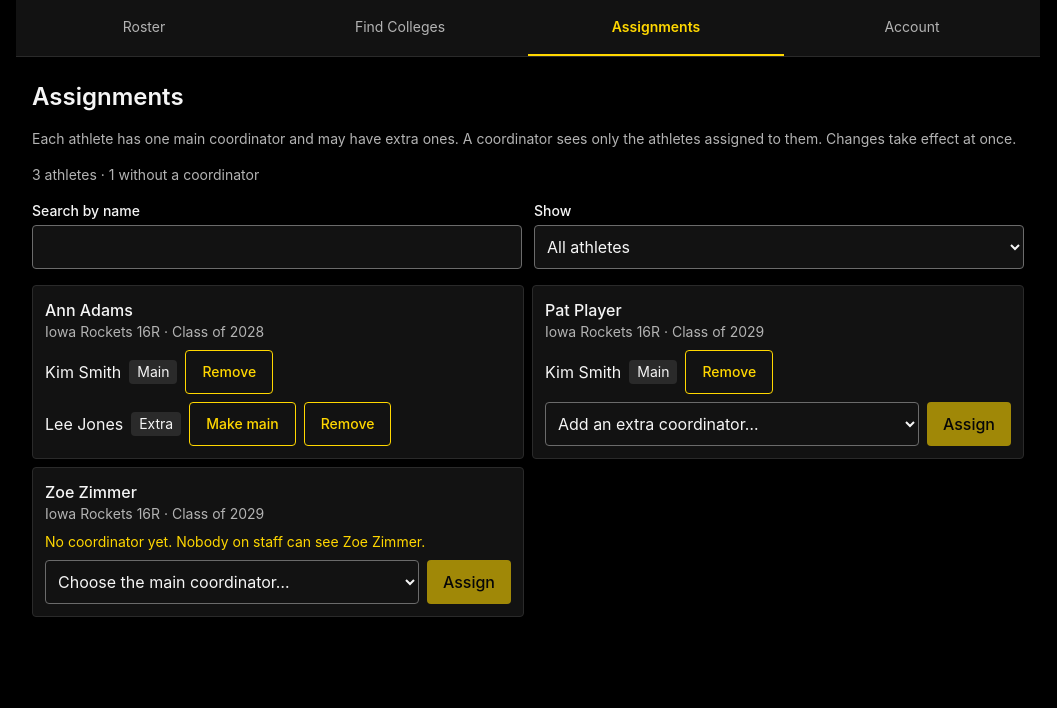
Test case: Assignments (administrator) › explains a refusal for lack of rights
Expected: the list named "Athletes" is shown, [32,285,1024,617]
Click the button with aria-label "Make Lee Jones the main coordinator of Ann Adams" at (242, 424), box [189,402,296,446]
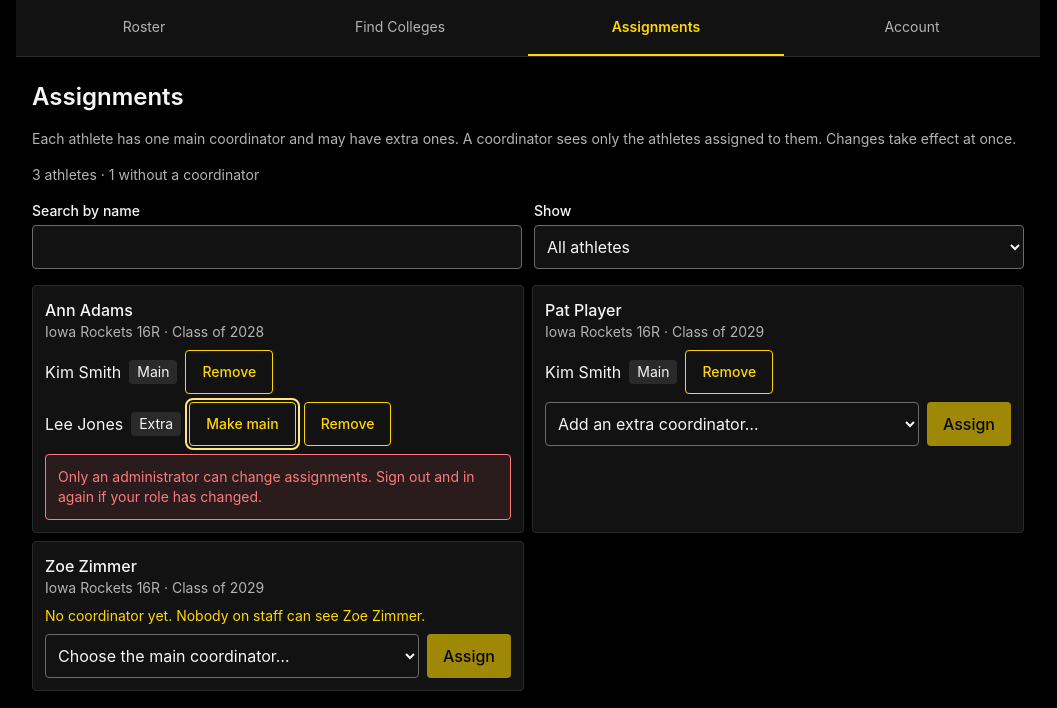
Result: the 2nd message shows "Only an administrator can change assignments" at [58,468,475,505]
